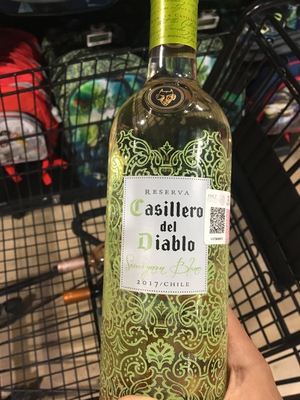casillero del diablo sauvignon blanc: (103, 5, 250, 400)
